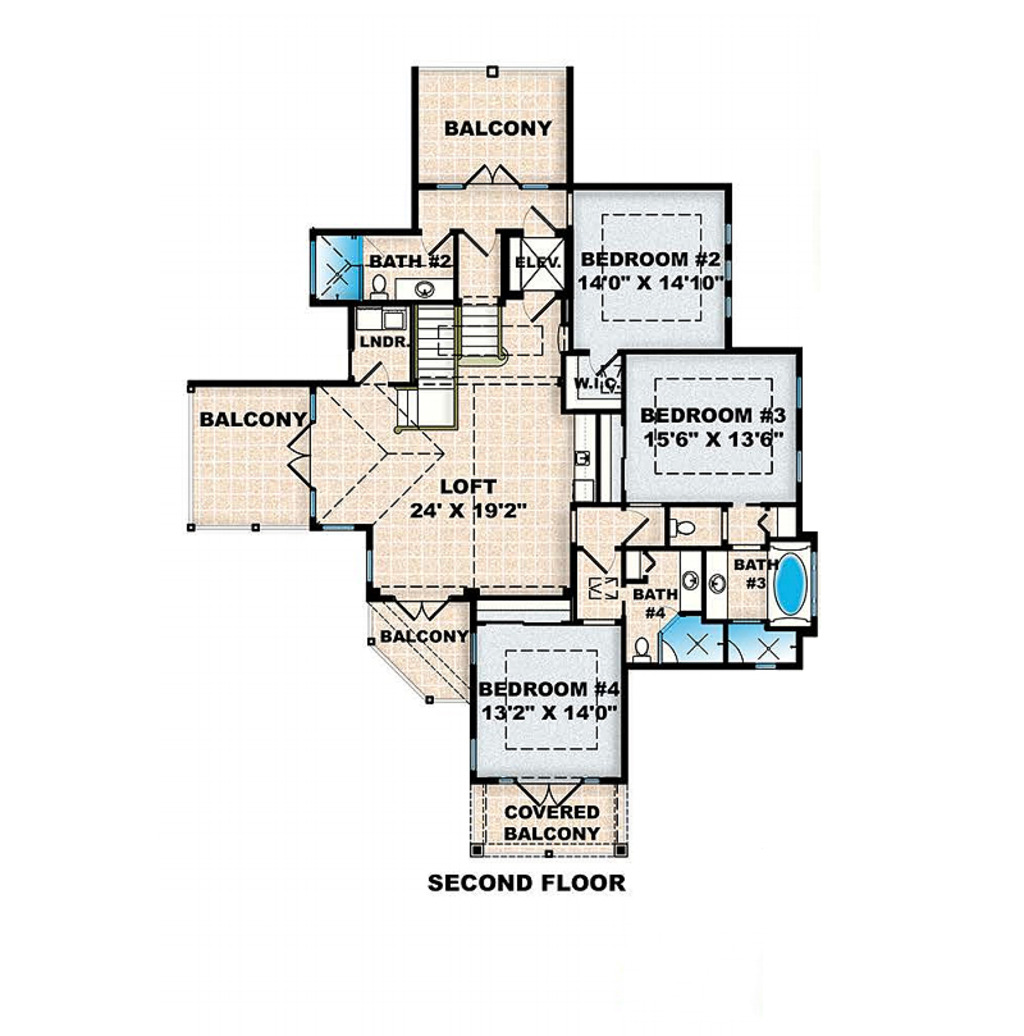door: (286, 422, 314, 490), (391, 594, 455, 620), (465, 161, 524, 187), (614, 502, 648, 542), (520, 204, 560, 238), (520, 289, 564, 319), (584, 542, 616, 570)
large_sink: (665, 510, 699, 542), (363, 272, 392, 300), (627, 634, 654, 664)
small_sink: (700, 553, 732, 620), (674, 553, 705, 612), (394, 274, 459, 301)
stairs: (409, 306, 459, 433), (454, 305, 509, 366)
tub: (765, 539, 809, 632)
